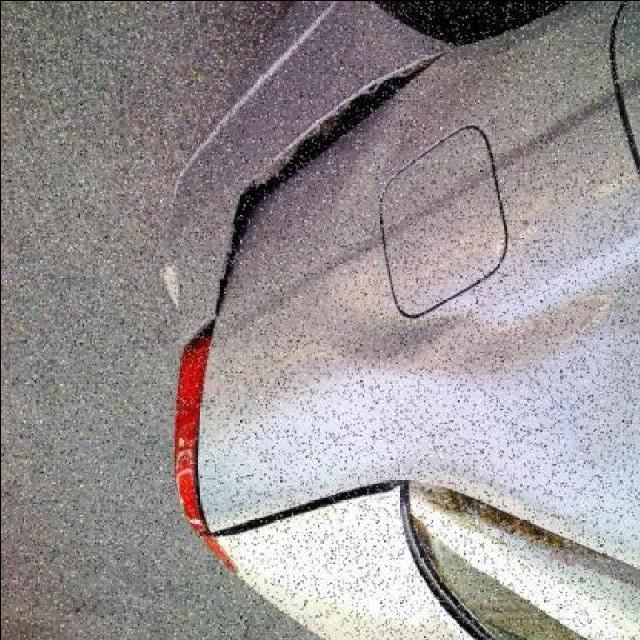quaterpanel-dent: (274, 23, 640, 495)
